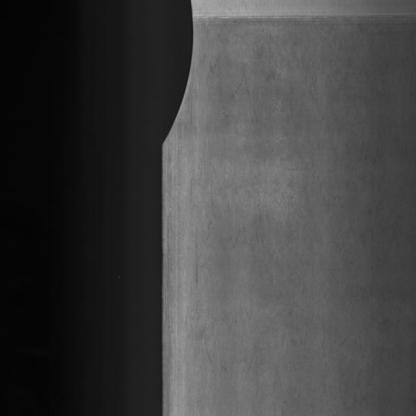crescent_gap: (152, 2, 200, 154)
welding_line: (188, 11, 416, 30)
